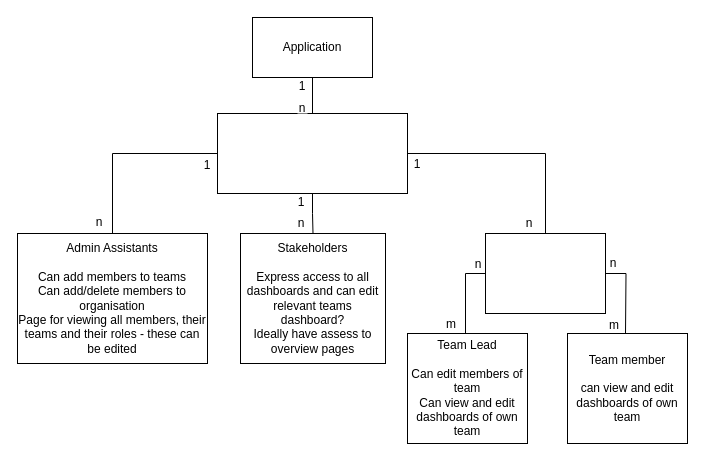
The diagram is 705 pixels wide and 461 high, and some of its shapes have lost their labels. The shapes that lost their labels are listed below. From the top down, each one's centre as x and y in pixels, then its label:
At (x=312, y=153): "Organisation A team member must belong to an organisation".
At (x=545, y=273): "Teams Each team has access to dashboards".
